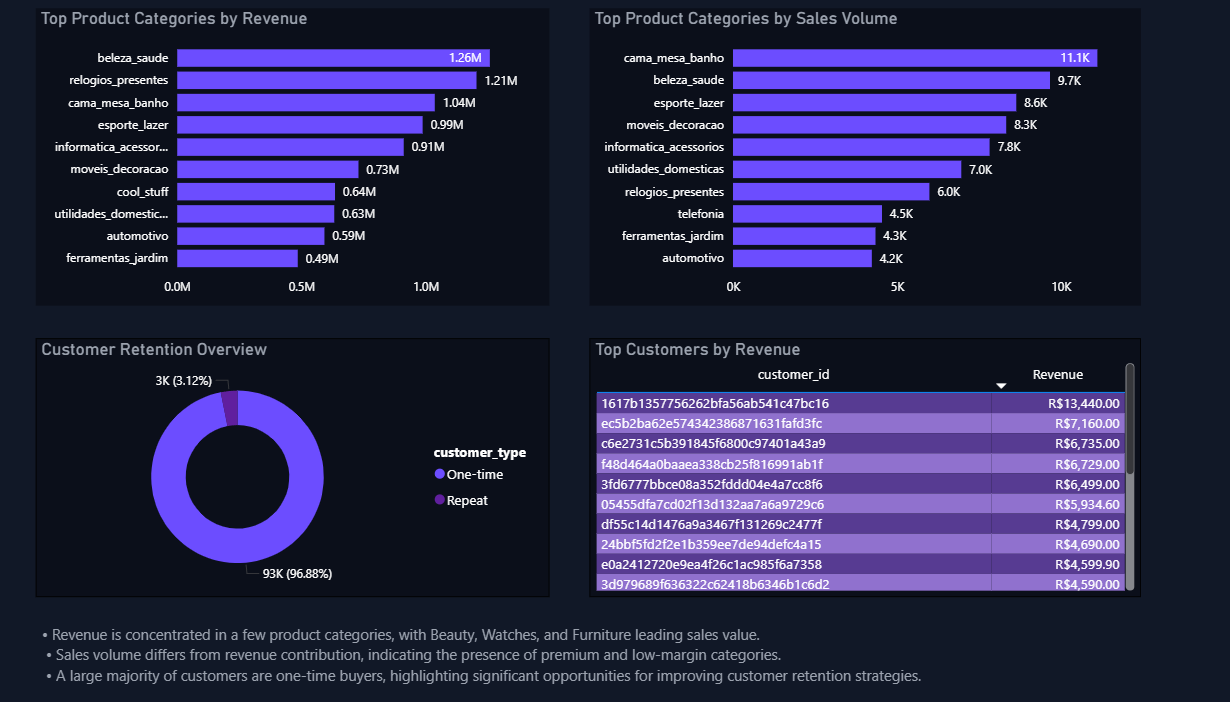

Layout of this report page (visuals, bound fields, positions):
{"tool":"powerbi","page":{"name":"Product & Customer Insights","canvas":[1280,720],"ordinal":1},"visuals":[{"type":"clusteredBarChart","title":"Top Product Categories by Revenue","fields":{"Category":["category_revenue.product_category_name"],"Y":["Sum(category_revenue.revenue)"]},"box":[68.4,16.2,511.3,296.1],"z":0},{"type":"clusteredBarChart","title":"Top Product Categories by Sales Volume","fields":{"Category":["category_volume.category"],"Y":["Sum(category_volume.items_sold)"]},"box":[619.5,16.2,548.6,296.1],"z":1000},{"type":"donutChart","title":"Customer Retention Overview","fields":{"Category":["repeat_vs_onetime_customers.customer_type"],"Y":["Sum(repeat_vs_onetime_customers.customers)"]},"box":[68.4,344.6,511.3,257.5],"z":2000},{"type":"tableEx","title":"Top Customers by Revenue","fields":{"Values":["top_customers.customer_id","Sum(top_customers.revenue)"]},"box":[619.5,344.6,548.6,257.5],"z":3000},{"type":"textbox","box":[69.7,624.5,1098.4,82.1],"z":4000}]}

Visuals, with their boxes in screenshot pixels (x1, y1, x2, y2), scaled from the page's 1280x720 canvas onto the 1230x702 screenshot:
"Top Product Categories by Revenue" clusteredBarChart: crop(66, 16, 557, 304)
"Top Product Categories by Sales Volume" clusteredBarChart: crop(595, 16, 1122, 304)
"Customer Retention Overview" donutChart: crop(66, 336, 557, 587)
"Top Customers by Revenue" tableEx: crop(595, 336, 1122, 587)
textbox: crop(67, 609, 1122, 689)
